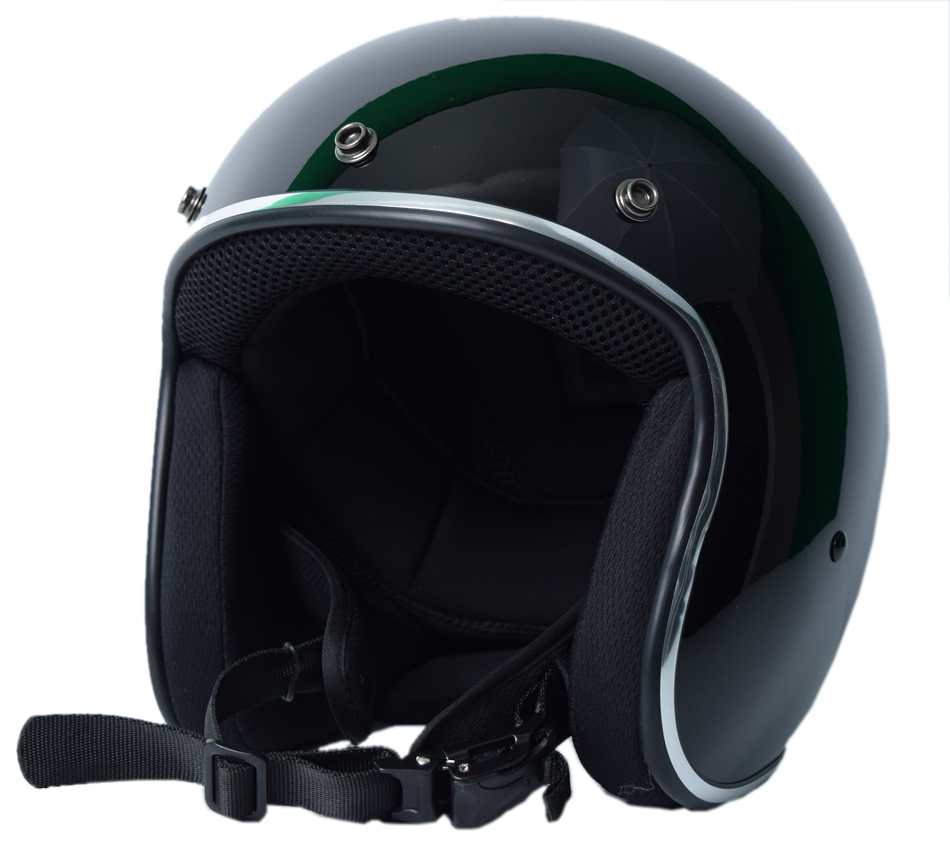with_helmet: (115, 5, 903, 839)
